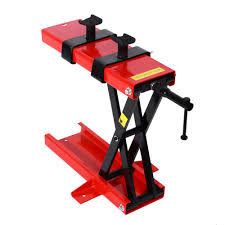Scissor Lift: (40, 14, 194, 216)
